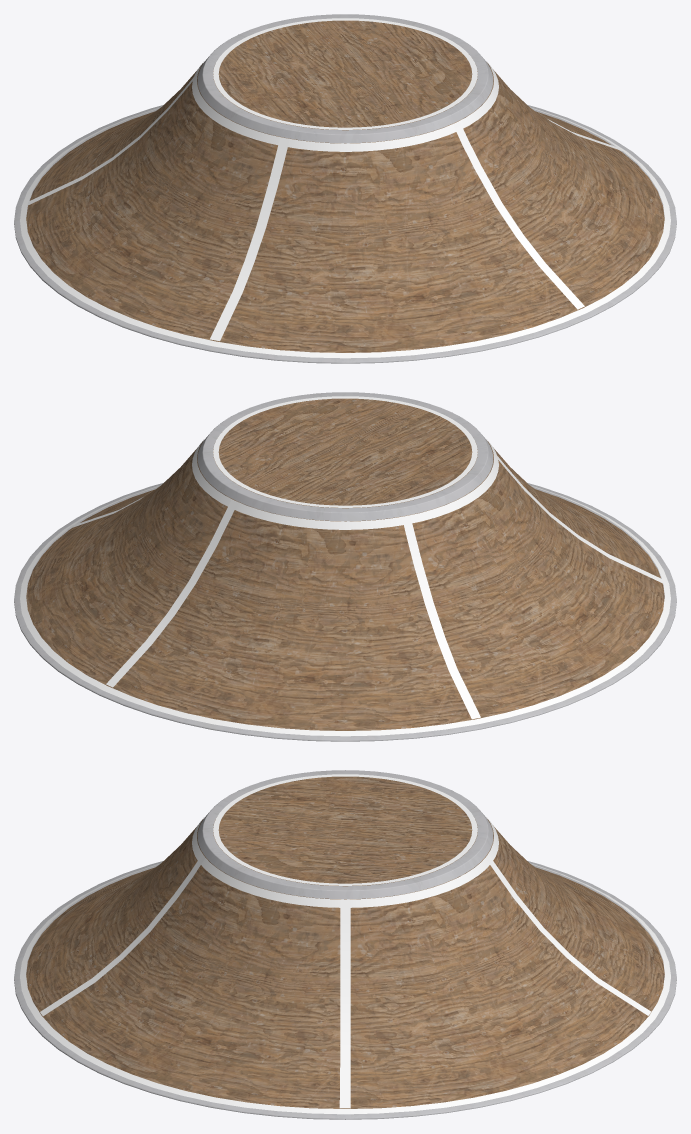
The model's file is GenericVolcanoLarge.glb.
The picture shows the model from 3 angles, top to bottom: view 1: azimuth 30°, elevation 25°; view 2: azimuth 150°, elevation 25°; view 3: azimuth 270°, elevation 25°; orthographic projection.
Parts seen in each view (by area): view 1: RS_LOD0_SECTION0_QD_Treshold_M_RSMAT_3, RS_LOD0_SECTION0_QD_Treshold_M_RSMAT_1, RS_LOD0_SECTION1_QD_Edges_M, RS_LOD0_SECTION0_QD_Treshold_M_RSMAT_0; view 2: RS_LOD0_SECTION0_QD_Treshold_M_RSMAT_3, RS_LOD0_SECTION0_QD_Treshold_M_RSMAT_1, RS_LOD0_SECTION1_QD_Edges_M, RS_LOD0_SECTION0_QD_Treshold_M_RSMAT_0; view 3: RS_LOD0_SECTION0_QD_Treshold_M_RSMAT_3, RS_LOD0_SECTION0_QD_Treshold_M_RSMAT_1, RS_LOD0_SECTION1_QD_Edges_M, RS_LOD0_SECTION0_QD_Treshold_M_RSMAT_0.
Boxes of the visible parts, left/top/right/bottom form: RS_LOD0_SECTION0_QD_Treshold_M_RSMAT_3: left=26, top=62, right=664, bottom=352; RS_LOD0_SECTION0_QD_Treshold_M_RSMAT_1: left=213, top=20, right=477, bottom=130; RS_LOD0_SECTION1_QD_Edges_M: left=20, top=18, right=670, bottom=358; RS_LOD0_SECTION0_QD_Treshold_M_RSMAT_0: left=14, top=14, right=676, bottom=363; RS_LOD0_SECTION0_QD_Treshold_M_RSMAT_3: left=26, top=440, right=664, bottom=730; RS_LOD0_SECTION0_QD_Treshold_M_RSMAT_1: left=213, top=398, right=477, bottom=508; RS_LOD0_SECTION1_QD_Edges_M: left=20, top=396, right=670, bottom=736; RS_LOD0_SECTION0_QD_Treshold_M_RSMAT_0: left=14, top=392, right=676, bottom=741; RS_LOD0_SECTION0_QD_Treshold_M_RSMAT_3: left=26, top=819, right=664, bottom=1108; RS_LOD0_SECTION0_QD_Treshold_M_RSMAT_1: left=213, top=776, right=477, bottom=886; RS_LOD0_SECTION1_QD_Edges_M: left=20, top=774, right=670, bottom=1114; RS_LOD0_SECTION0_QD_Treshold_M_RSMAT_0: left=14, top=770, right=676, bottom=1119.
Bounding box in the file's own units: 6.01 × 1.51 × 6.01.
Materials: 5 (4 with a texture image).
